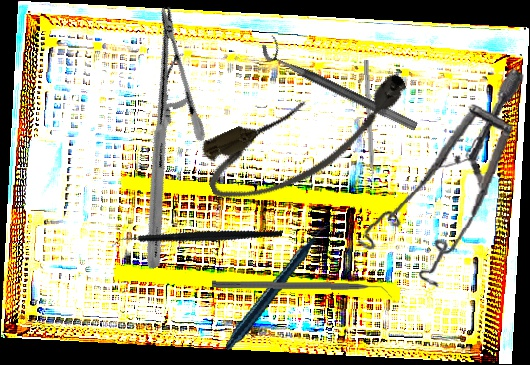Cannula: (193, 60, 424, 215)
Chopper: (110, 180, 284, 300), (211, 280, 393, 301), (356, 59, 376, 187)
Fixation Ring: (257, 33, 425, 132)
Handpiece: (202, 224, 357, 351)
Needle Holder: (49, 4, 271, 271)
Speculum: (353, 55, 525, 296)
